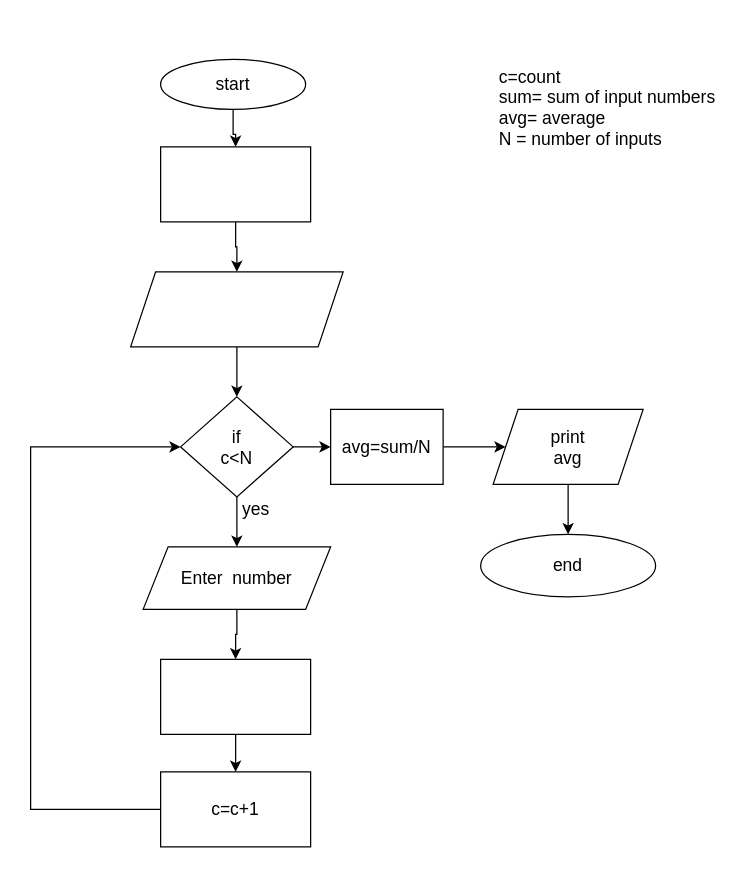
Image size: 753x869. Some labels were removed from this diagram. The shapes that lost their labels are listed below. From the top down, each one's centre as x and y in pixels, then its label:
the point at 235,184: c=0 sum=0 avg=0
the point at 236,309: Enter value for N
the point at 235,696: sum=sum+num
